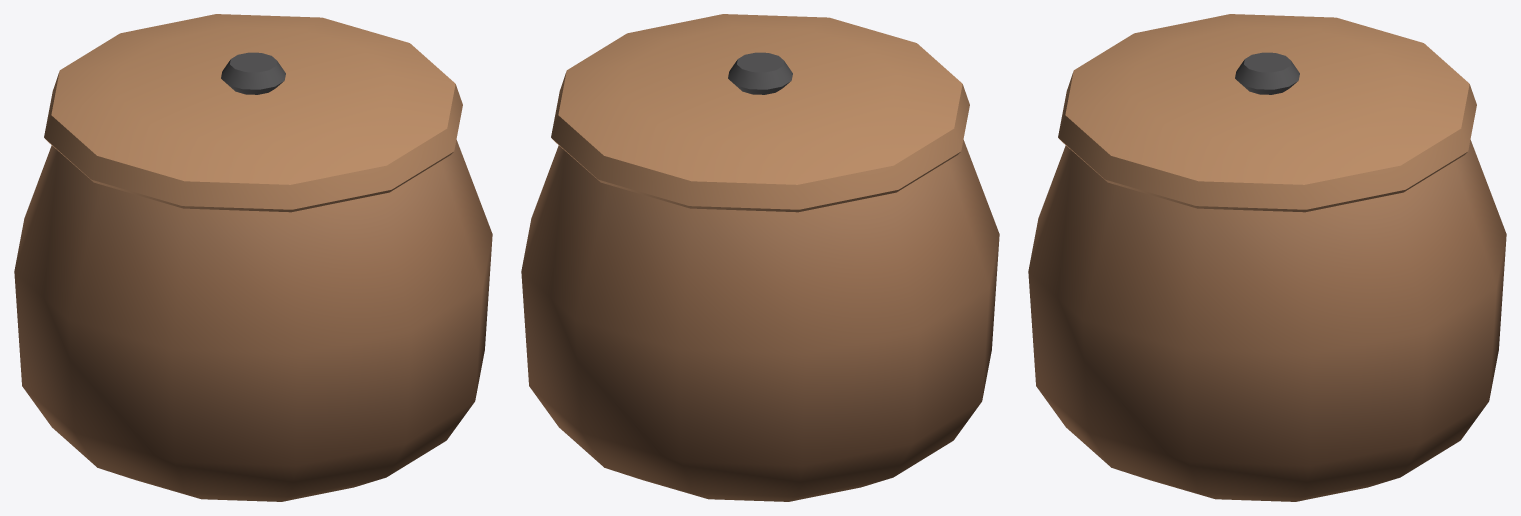
Rendered from Jar_1.fbx.
The picture shows the model from 3 angles, left to right: view 1: azimuth 30°, elevation 25°; view 2: azimuth 150°, elevation 25°; view 3: azimuth 270°, elevation 25°; orthographic projection.
Visible parts, largest first — view 1: Jar_1; view 2: Jar_1; view 3: Jar_1.
Boxes of the visible parts, <box> form: Jar_1: <box>14,14,492,501</box>; Jar_1: <box>521,14,999,501</box>; Jar_1: <box>1028,14,1506,501</box>.
Size of the model in its own units: 26.01 by 22.49 by 26.01.
